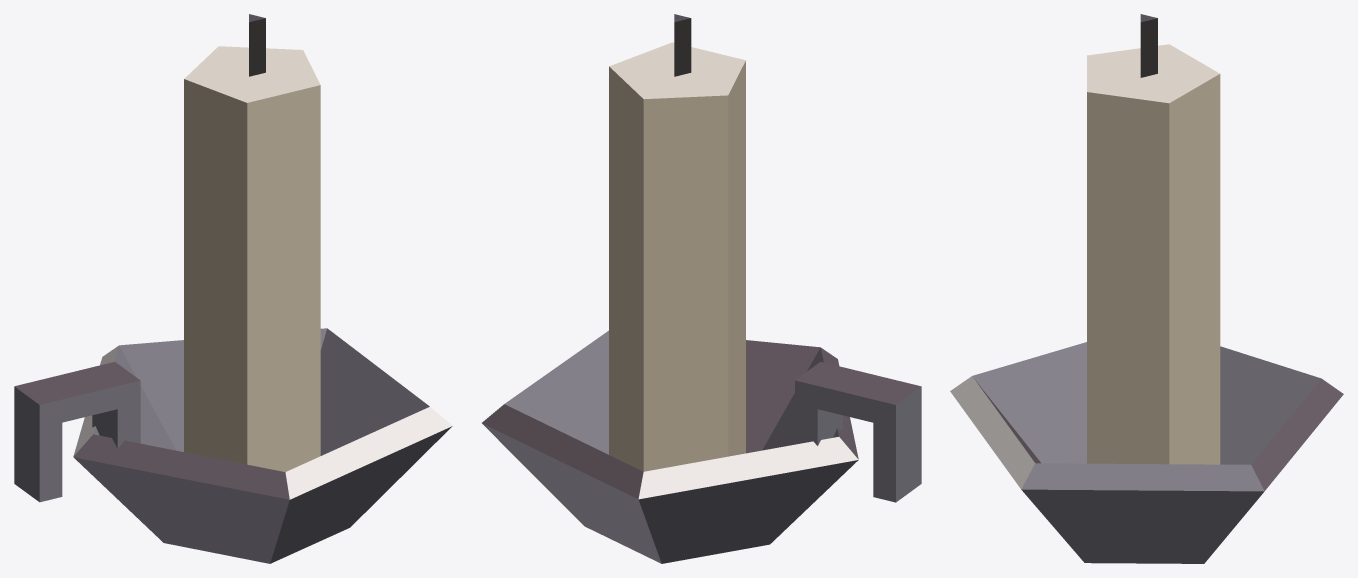
Rendered from TB_Prop_Candle_C.FBX.
3 renders of one model, left to right at view 1: azimuth 30°, elevation 25°; view 2: azimuth 150°, elevation 25°; view 3: azimuth 270°, elevation 25°, orthographic.
Visible parts, largest first — view 1: TB_Prop_Candle_C; view 2: TB_Prop_Candle_C; view 3: TB_Prop_Candle_C.
Part boxes in pixels (<box>): TB_Prop_Candle_C: <box>14,14,452,563</box>; TB_Prop_Candle_C: <box>482,14,921,563</box>; TB_Prop_Candle_C: <box>950,14,1343,563</box>.
Size of the model in its own units: 0.5589 by 0.7296 by 0.5081.
